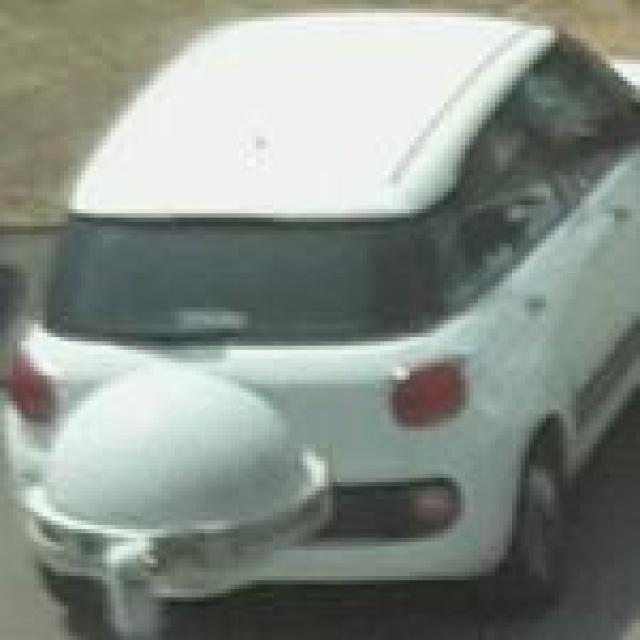cars-sUYr: (28, 0, 640, 623)
